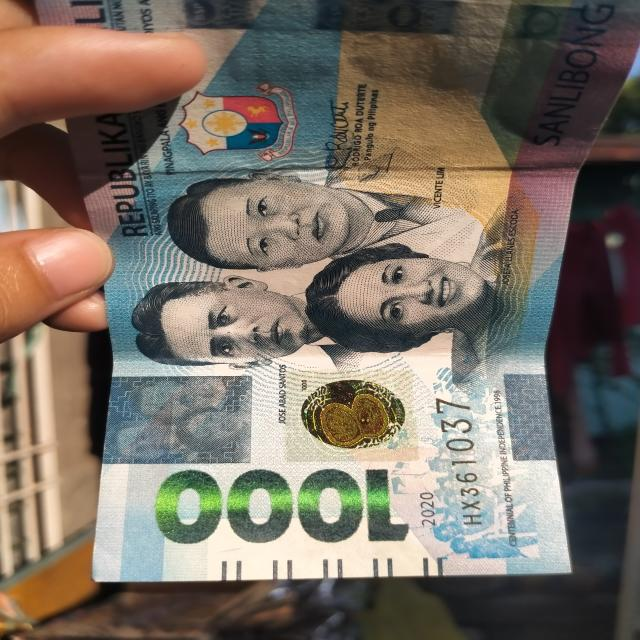concealed_value: (104, 376, 252, 464)
optically_variable_device: (283, 372, 419, 461)
value: (148, 465, 410, 546)
